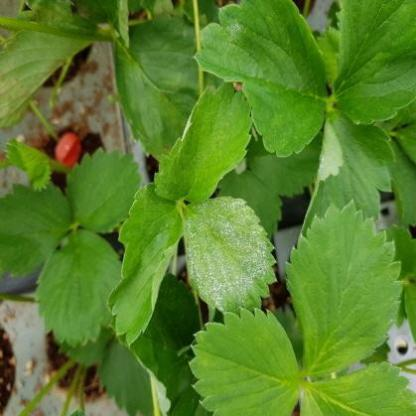Strawberry_Powdery_Mildew_Leaf: (194, 0, 328, 159), (300, 106, 396, 239), (154, 82, 254, 202), (182, 195, 277, 318)
